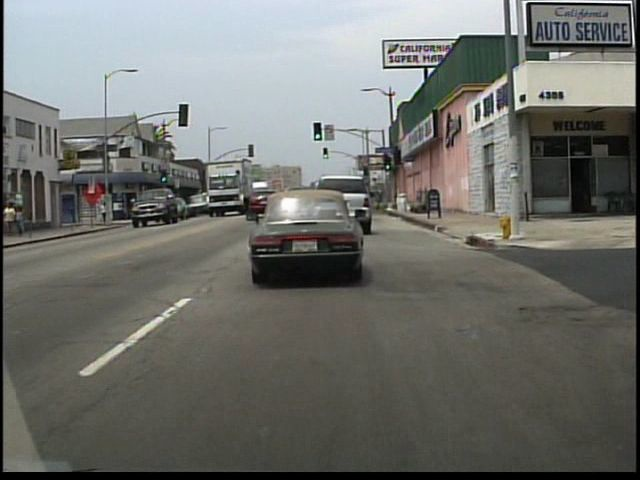person: (17, 205, 29, 237), (9, 203, 20, 235), (100, 201, 111, 224)
